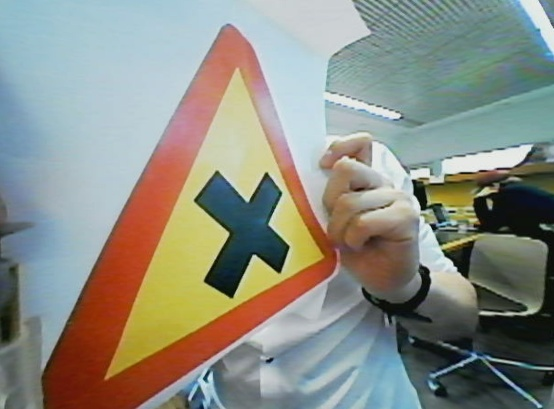junction: (31, 18, 326, 409)
